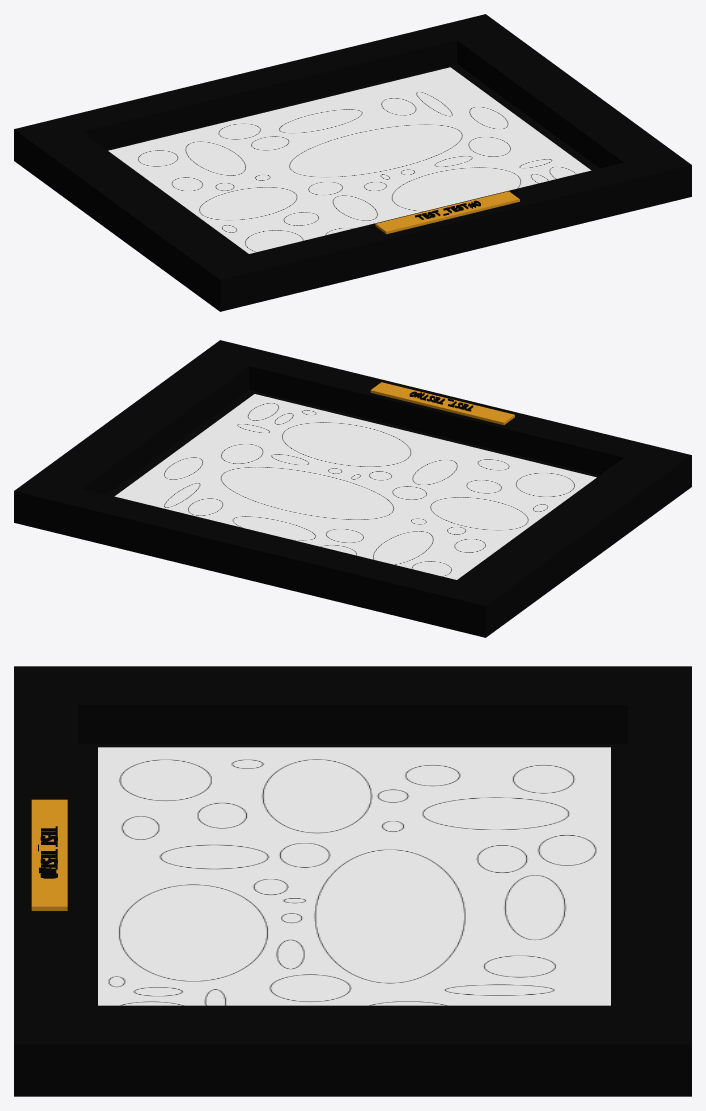
3 views of the same model, one above another, from view 1: azimuth 30°, elevation 25°; view 2: azimuth 150°, elevation 25°; view 3: azimuth 270°, elevation 25° (orthographic). The views are drawn at different scales.
Visible parts, largest first — view 1: cadre, TestTest, plaque; view 2: cadre, TestTest, plaque; view 3: cadre, TestTest, plaque, Text.
Part boxes in pixels (left/top/right/bottom): cadre: left=14, top=14, right=691, bottom=311; TestTest: left=108, top=67, right=591, bottom=253; plaque: left=375, top=191, right=519, bottom=234; cadre: left=14, top=340, right=691, bottom=637; TestTest: left=114, top=394, right=596, bottom=579; plaque: left=370, top=382, right=514, bottom=425; cadre: left=14, top=666, right=691, bottom=1096; TestTest: left=98, top=747, right=610, bottom=1005; plaque: left=31, top=799, right=67, bottom=910; Text: left=38, top=826, right=57, bottom=878.
Size of the model in its own units: 1.75 by 0.127 by 1.32.
Materials: 3 (1 with a texture image).
